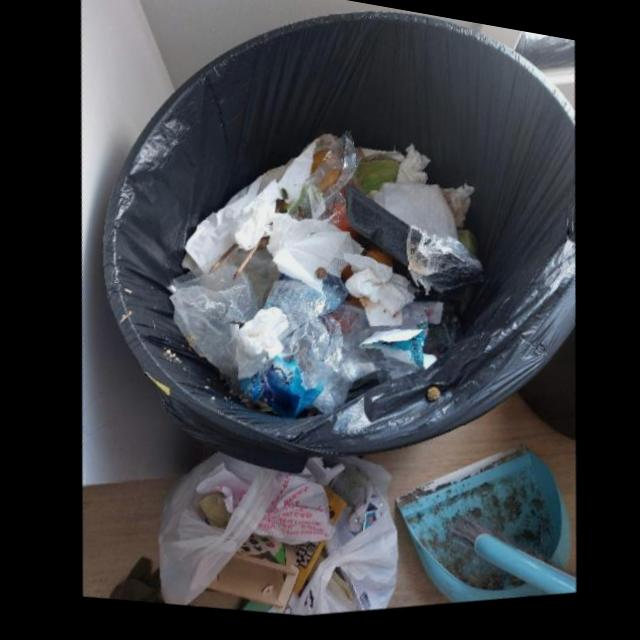giay: (183, 138, 336, 269), (265, 217, 362, 298), (252, 477, 332, 550), (365, 188, 456, 246), (342, 259, 413, 332), (234, 312, 287, 381), (227, 183, 276, 254), (394, 150, 429, 190), (236, 538, 280, 561)
tui_ni_long: (276, 305, 417, 418), (166, 252, 278, 393), (405, 232, 483, 301)
vo_rau_cu: (356, 165, 396, 203), (456, 237, 476, 265)
